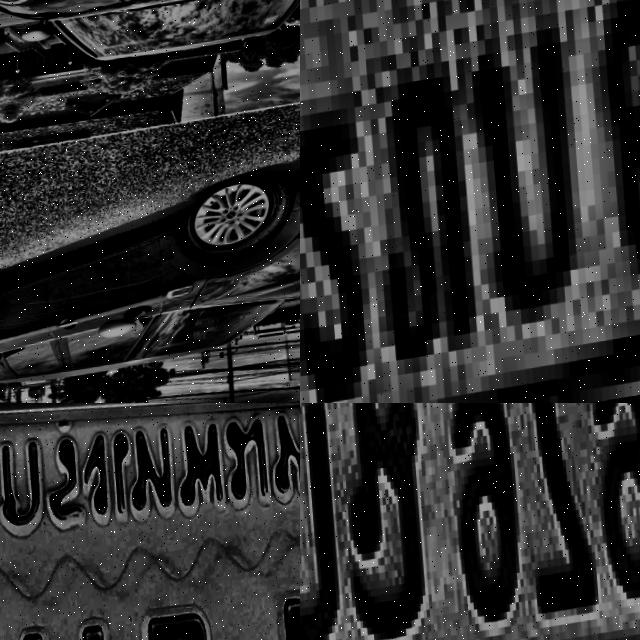license-plate: (300, 0, 640, 403), (300, 403, 640, 640), (0, 403, 300, 640)
